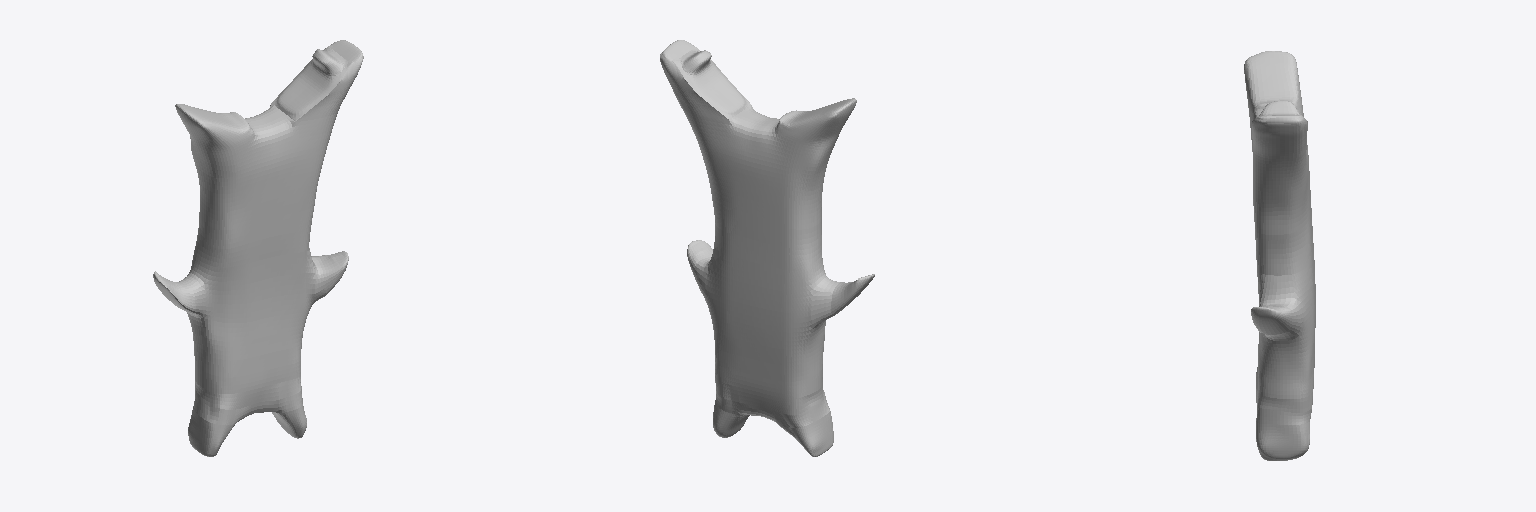
File: korok7.obj
The picture shows the model from 3 angles: view 1: azimuth 30°, elevation 25°; view 2: azimuth 150°, elevation 25°; view 3: azimuth 270°, elevation 25°; orthographic projection.
Parts seen in each view (by area): view 1: Plane; view 2: Plane; view 3: Plane.
Boxes of the visible parts, <box> form: Plane: <box>153,40,363,456</box>; Plane: <box>660,40,874,456</box>; Plane: <box>1244,51,1315,460</box>.
Size of the model in its own units: 1.02 by 1.82 by 0.3157.